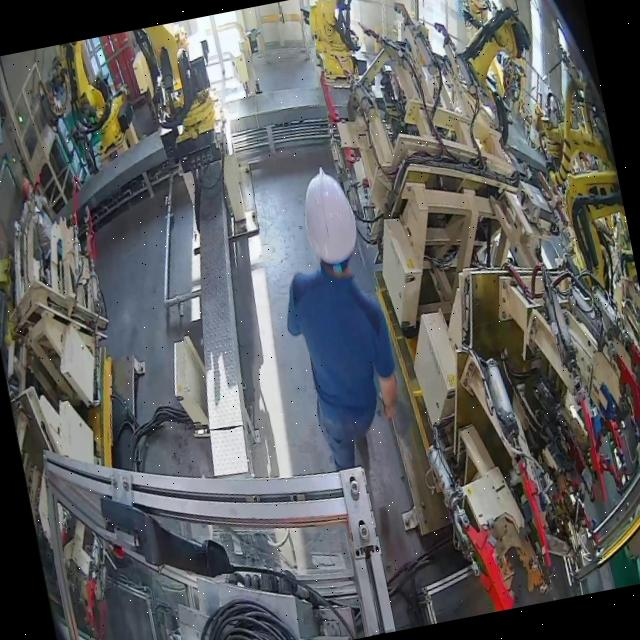Person: (258, 158, 414, 476), (30, 204, 60, 288)
